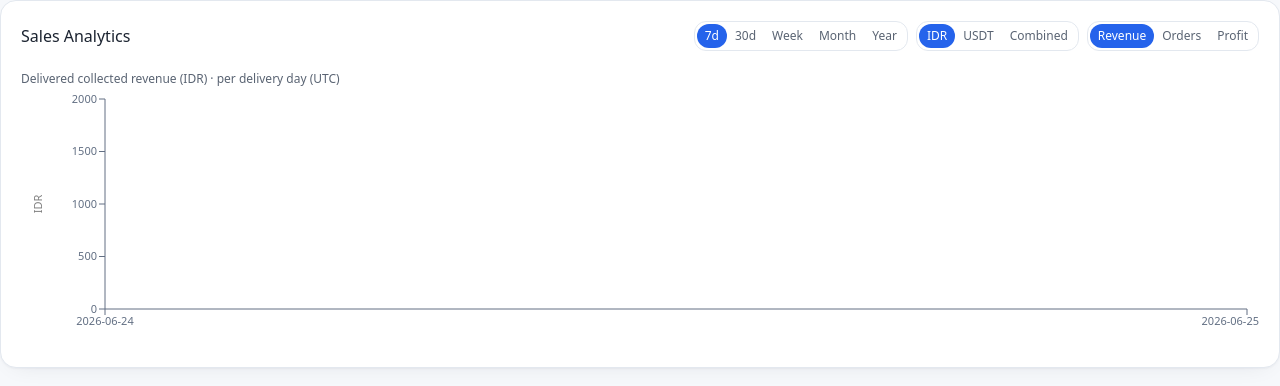
Test: SalesAnalyticsCard › says what a bucket covers for each calendar range (and that it is cut in UTC), instead of claiming 'per delivery day' for a monthly rollup
Check: the text "Delivered collected revenue (IDR) · per delivery day (UTC)" is shown, box [21,70,340,87]
Click the button "Week". click: (788, 36)
box: [764,24,811,48]
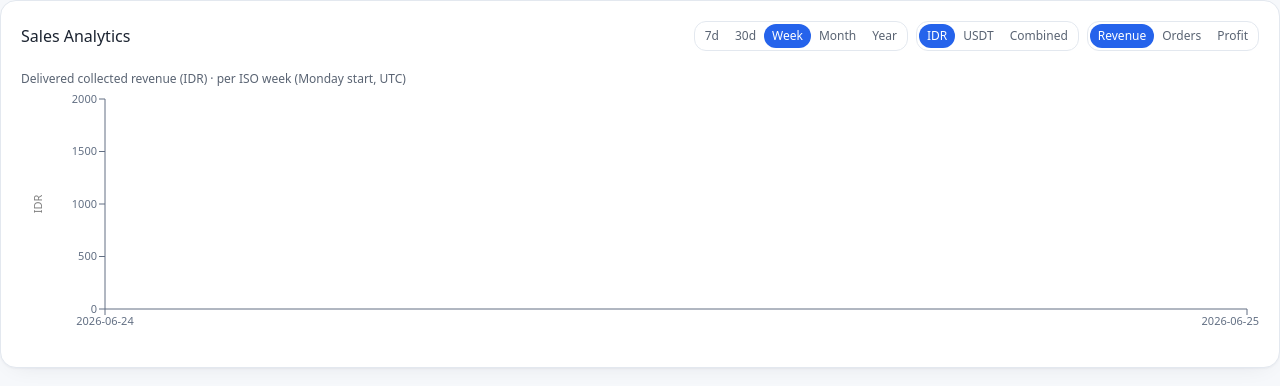
Check: the text "Delivered collected revenue (IDR) · per ISO week (Monday start, UTC)" is shown, box [21,70,406,87]
Click the button "Month". click: (838, 36)
box: [811,24,864,48]
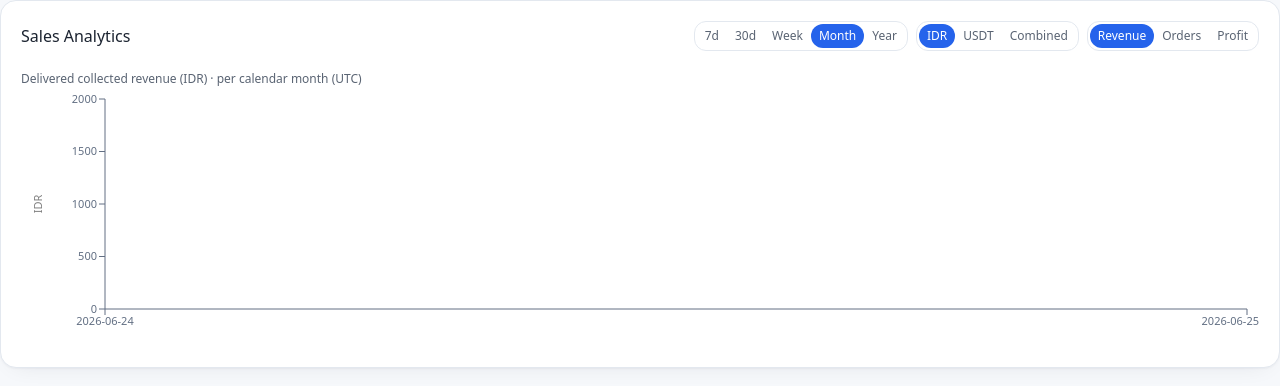
Check: the text "Delivered collected revenue (IDR) · per calendar month (UTC)" is shown, box [21,70,362,87]
Click the button "Year". click: (885, 36)
box: [864,24,905,48]
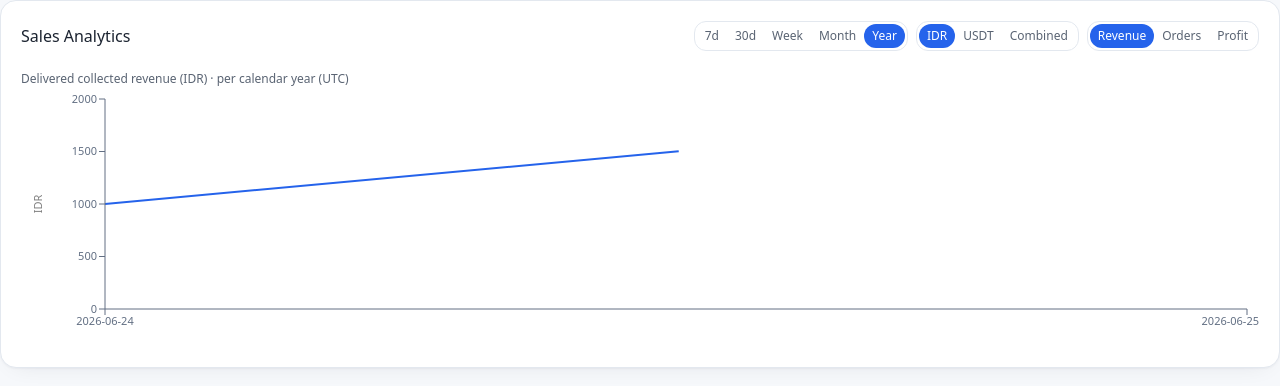
Check: the text "Delivered collected revenue (IDR) · per calendar year (UTC)" is shown, box [21,70,349,87]
